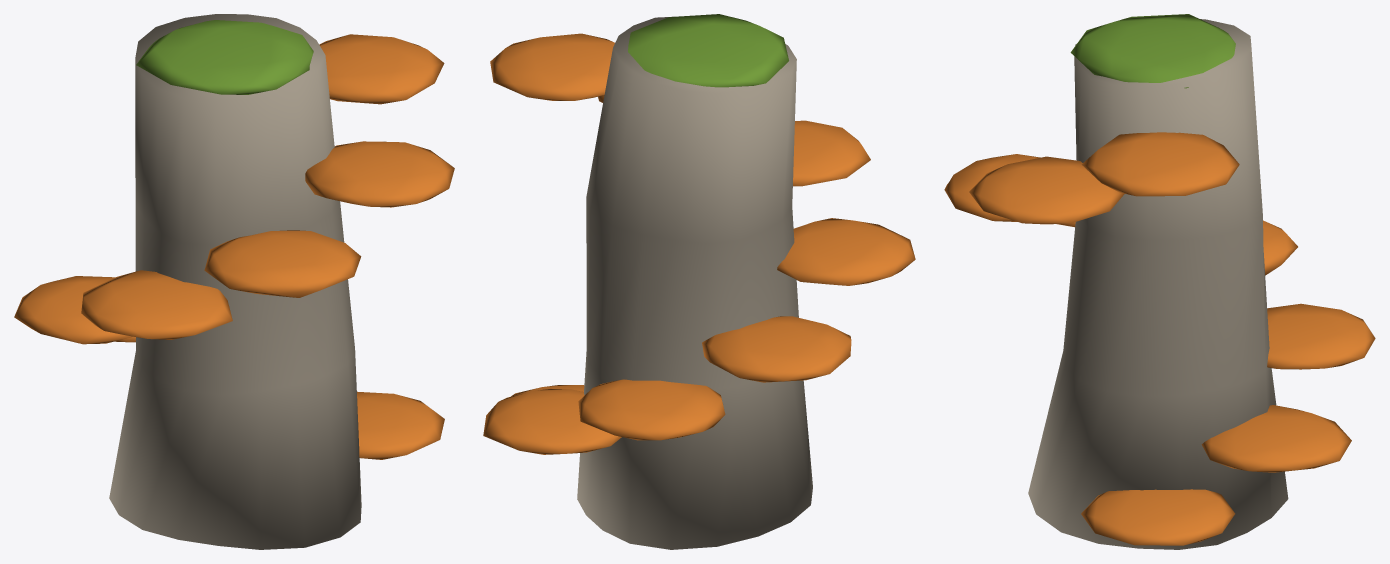
The model's file is fk_shelf_fungus_stump.fbx.
3 renders of one model, left to right at view 1: azimuth 30°, elevation 25°; view 2: azimuth 150°, elevation 25°; view 3: azimuth 270°, elevation 25°, orthographic.
Visible parts, largest first — view 1: fk_shelf_fungus_stump; view 2: fk_shelf_fungus_stump; view 3: fk_shelf_fungus_stump.
Boxes of the visible parts, x1,y1,x2,y2 form: fk_shelf_fungus_stump: (14, 14, 454, 549); fk_shelf_fungus_stump: (483, 14, 915, 549); fk_shelf_fungus_stump: (944, 14, 1375, 549).
Bounding box in the file's own units: 527 × 621 × 533.
